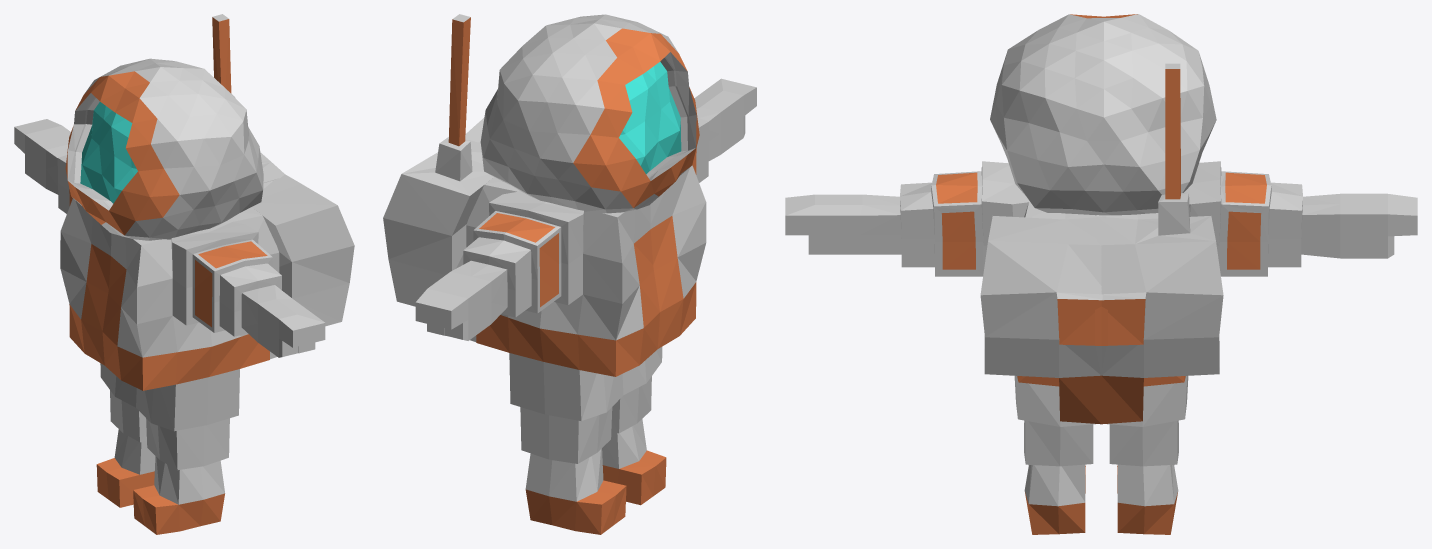
File: ASTRONAUTS.fbx
3 renders of one model, left to right at view 1: azimuth 30°, elevation 25°; view 2: azimuth 150°, elevation 25°; view 3: azimuth 270°, elevation 25°, orthographic. The views are drawn at different scales.
Visible parts, largest first — view 1: Cube; view 2: Cube; view 3: Cube.
Boxes of the visible parts, x1=… form: Cube: x1=14, y1=14, x2=354, y2=534; Cube: x1=383, y1=14, x2=756, y2=534; Cube: x1=785, y1=14, x2=1417, y2=534.
Bounding box in the file's own units: 363 × 670 × 763.
